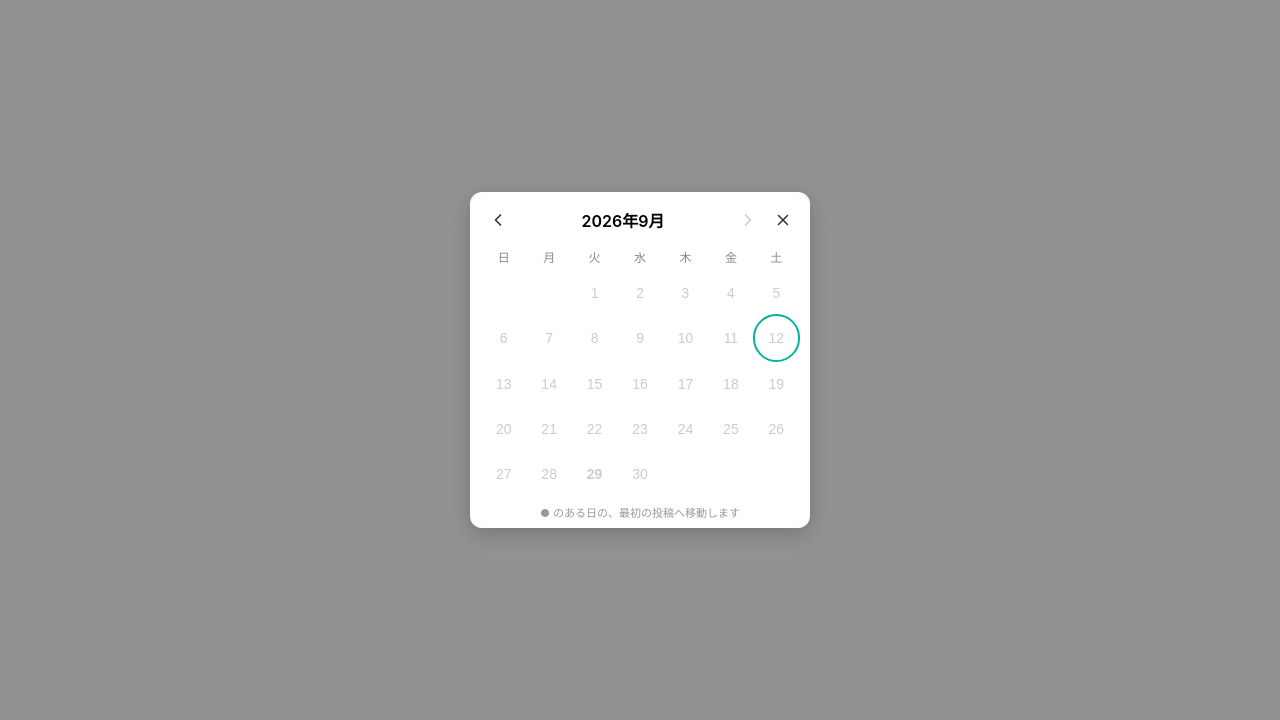
Scenario: DateJumpCalendar (#476) › 前の月へ動かすと、その月の投稿のある日を取りに行く
Click the button named "前の月" at [498, 220], box [482, 204, 514, 236]
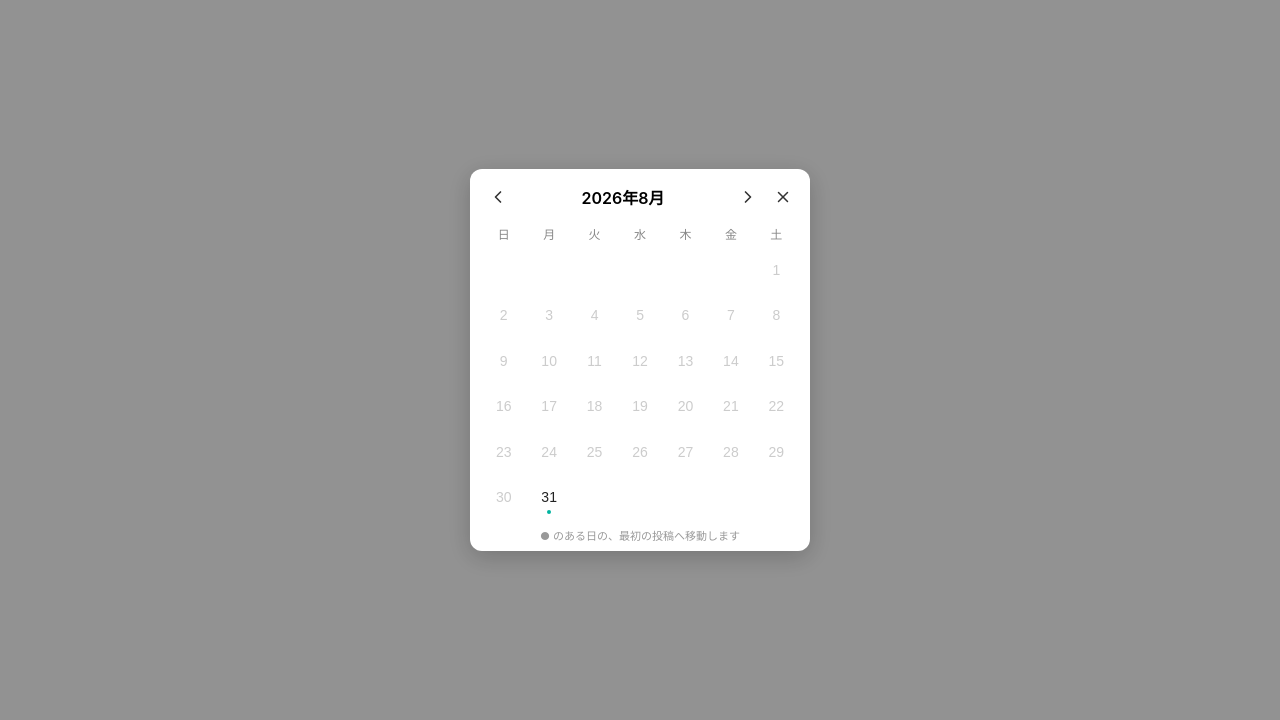
Check: the text "2026年8月" is shown, box [582, 188, 664, 208]
